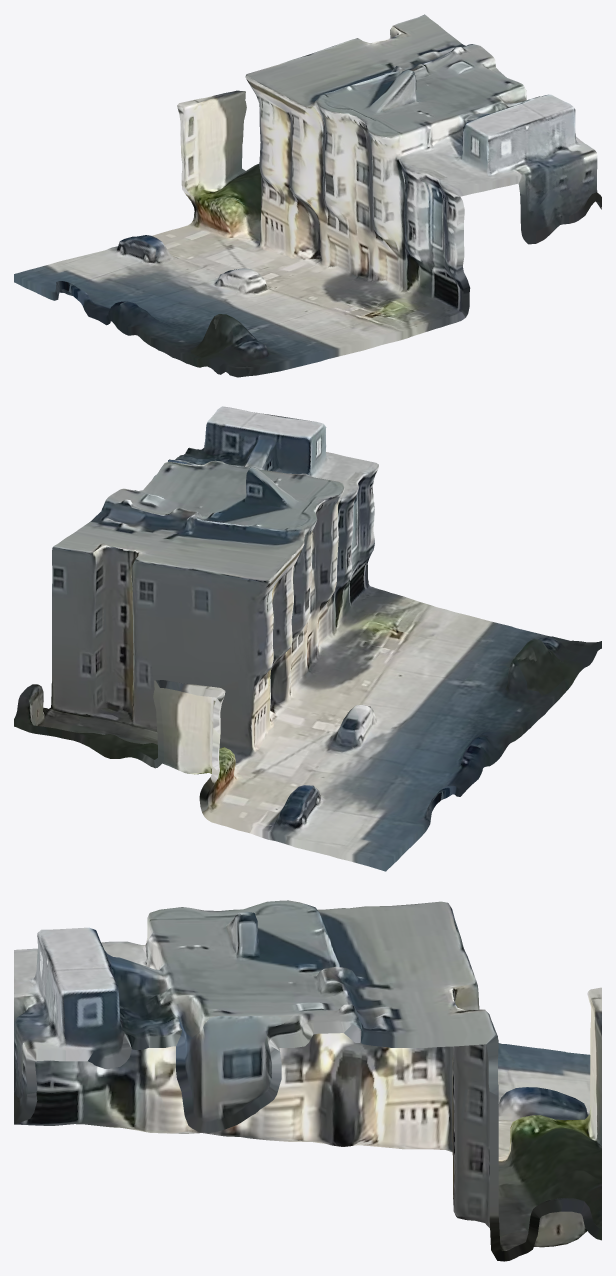
Rendered from z20-167742-405195-h0-yup-uvflip-v3-world.glb.
3 renders of one model, top to bottom at view 1: azimuth 30°, elevation 25°; view 2: azimuth 150°, elevation 25°; view 3: azimuth 270°, elevation 25°, orthographic. The views are drawn at different scales.
Bounding box in the file's own units: 30.16 × 18.84 × 30.32.
Materials: 1 (1 with a texture image).
